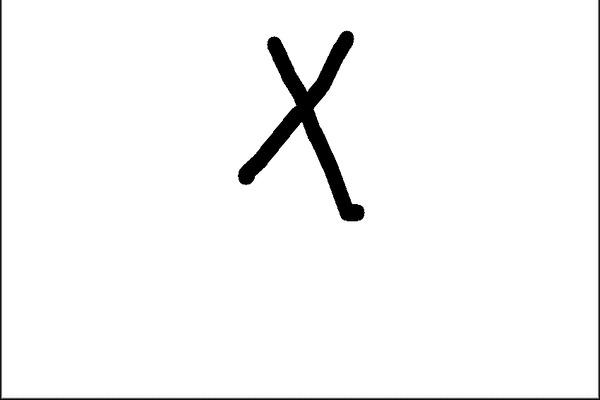X: (210, 18, 402, 258)
